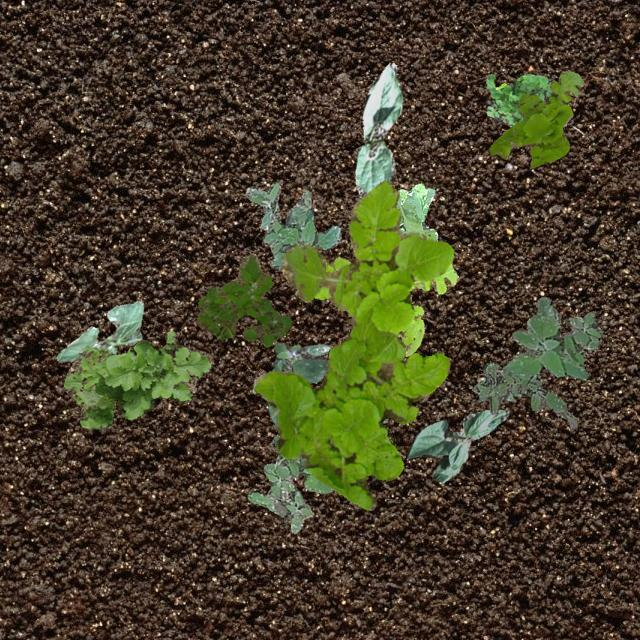crop: (406, 408, 508, 482), (354, 61, 402, 198), (56, 299, 142, 362)
weed: (252, 180, 452, 510), (62, 329, 212, 428), (314, 256, 458, 356), (472, 296, 600, 400), (488, 70, 582, 166), (196, 252, 290, 346), (246, 434, 332, 532), (244, 183, 340, 269), (474, 364, 576, 428), (268, 356, 326, 424), (484, 72, 552, 126), (396, 182, 436, 240), (272, 342, 328, 371)
